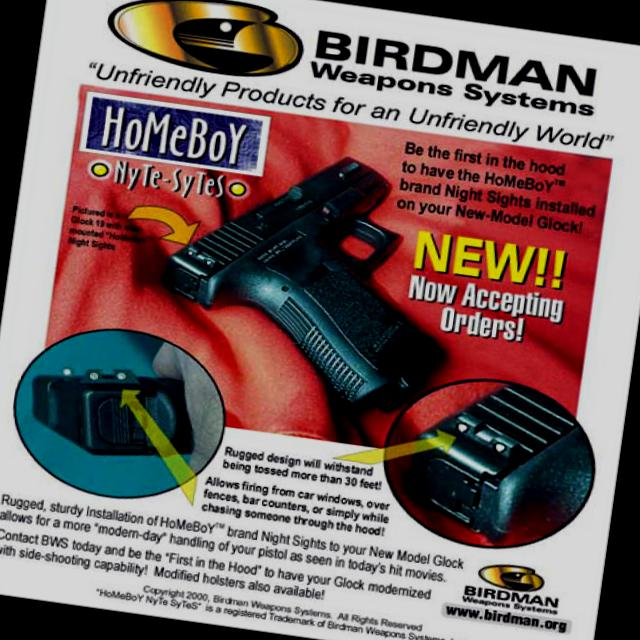handgun: (148, 127, 470, 421)
